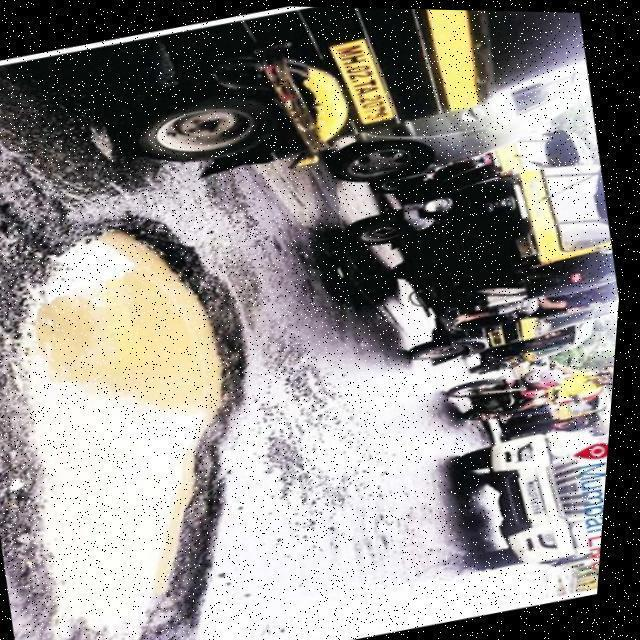Pothole: (0, 216, 245, 640)
